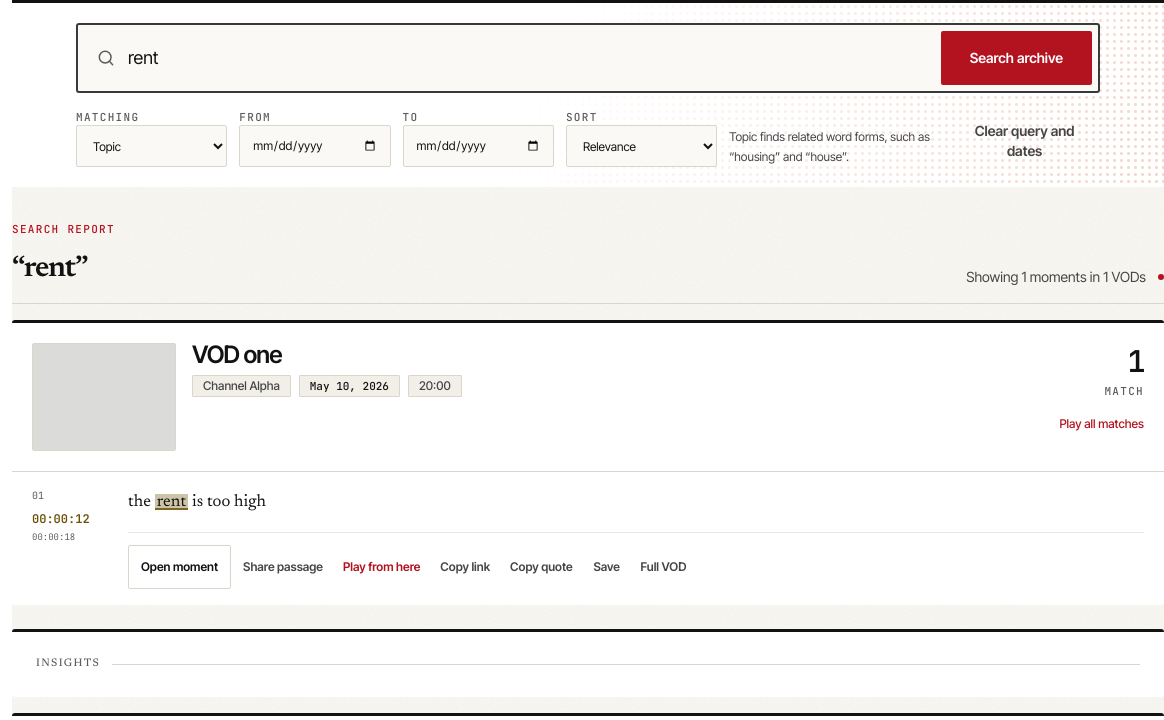
Test: SearchPage › saves an anonymous result locally and identifies the saved result
The width and height of the screenshot is (1164, 720).
What coordinates should you click on to do the following:
click the button with aria-label "Save moment"
I would click on:
 (607, 567)
Its box is [585,545,629,589].
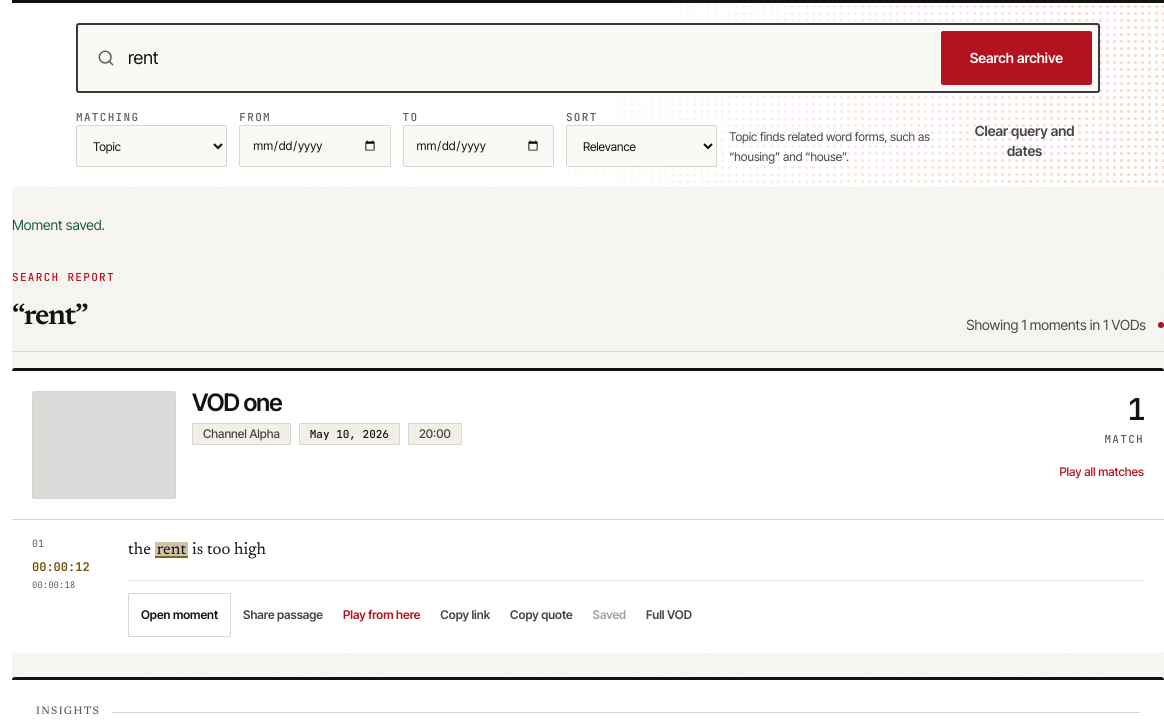
Now the message reads "Moment saved.", box [12,216,105,233]
Now the button with aria-label "Saved moment" is disabled, box [585,593,634,637]
